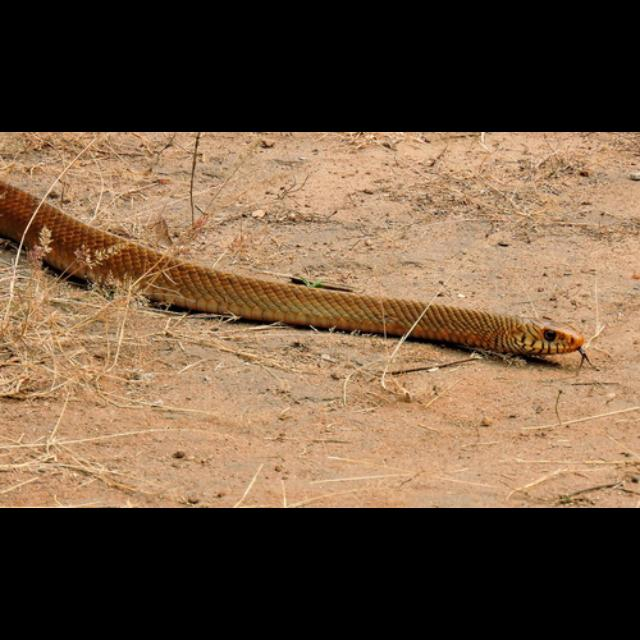snake: (0, 175, 588, 364)
